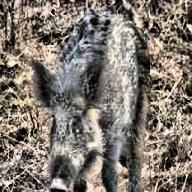boar: (31, 3, 152, 191)
